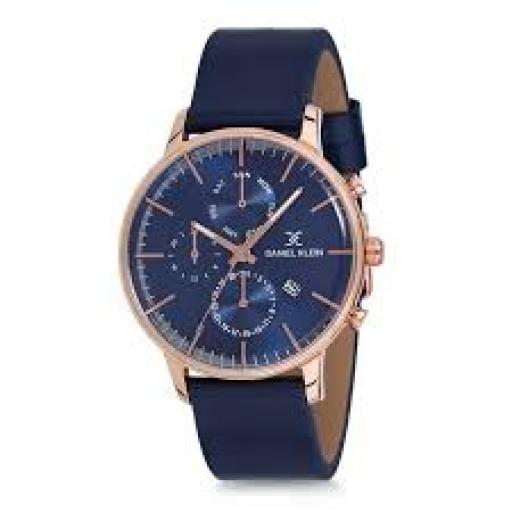KolSaati: (94, 10, 417, 492)
